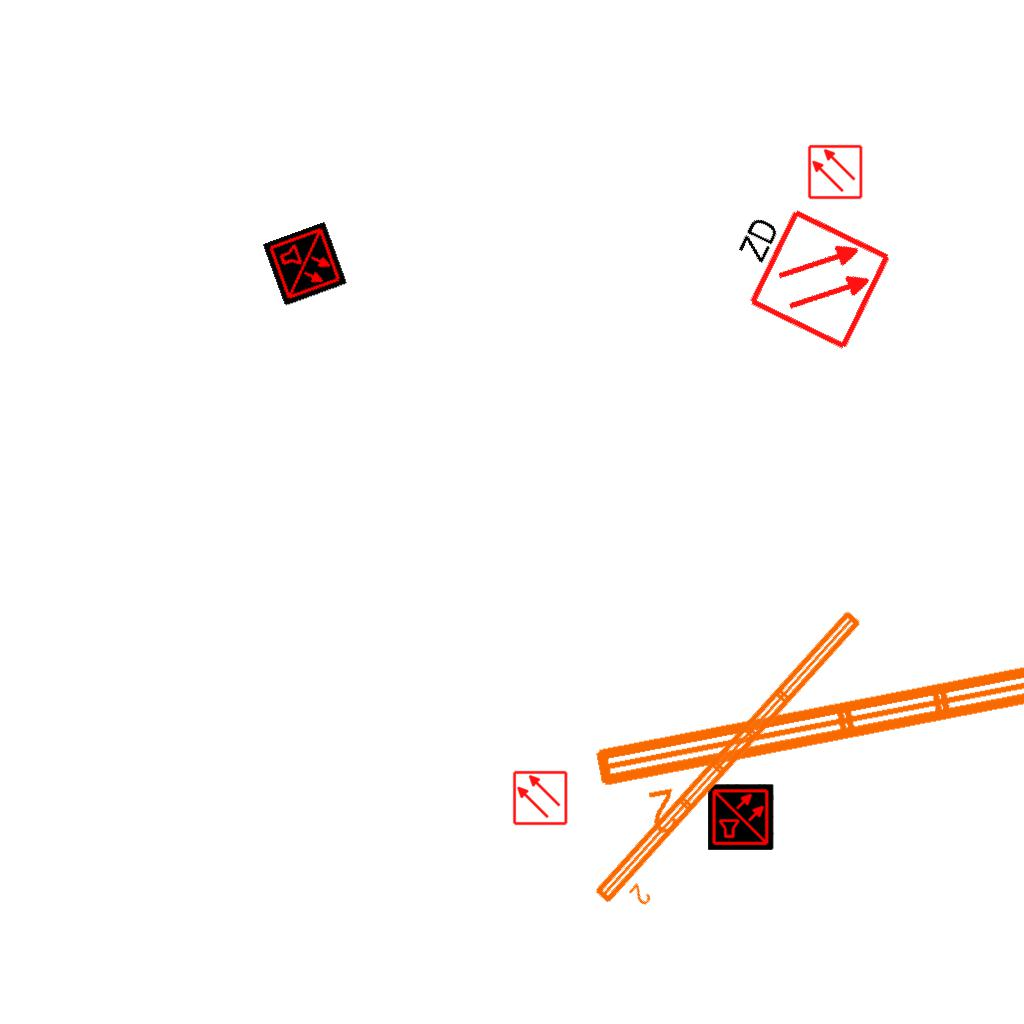Ambulanz_Pendelleuchte_LED: (584, 592, 1024, 850), (587, 602, 888, 928)
OKW_Multisensormelder_(Kombination_optischer_Rauch-Kahlenmonoxid_Waerme-Melder): (262, 221, 348, 307), (708, 784, 774, 850)
RMO_Rauchmelder_optischer: (512, 770, 568, 826), (807, 144, 863, 200)
ZD_Melder_in_Zwischendecke_mit_Revisionsoeffnung_mind_40_x_40_cm: (710, 188, 894, 357)
